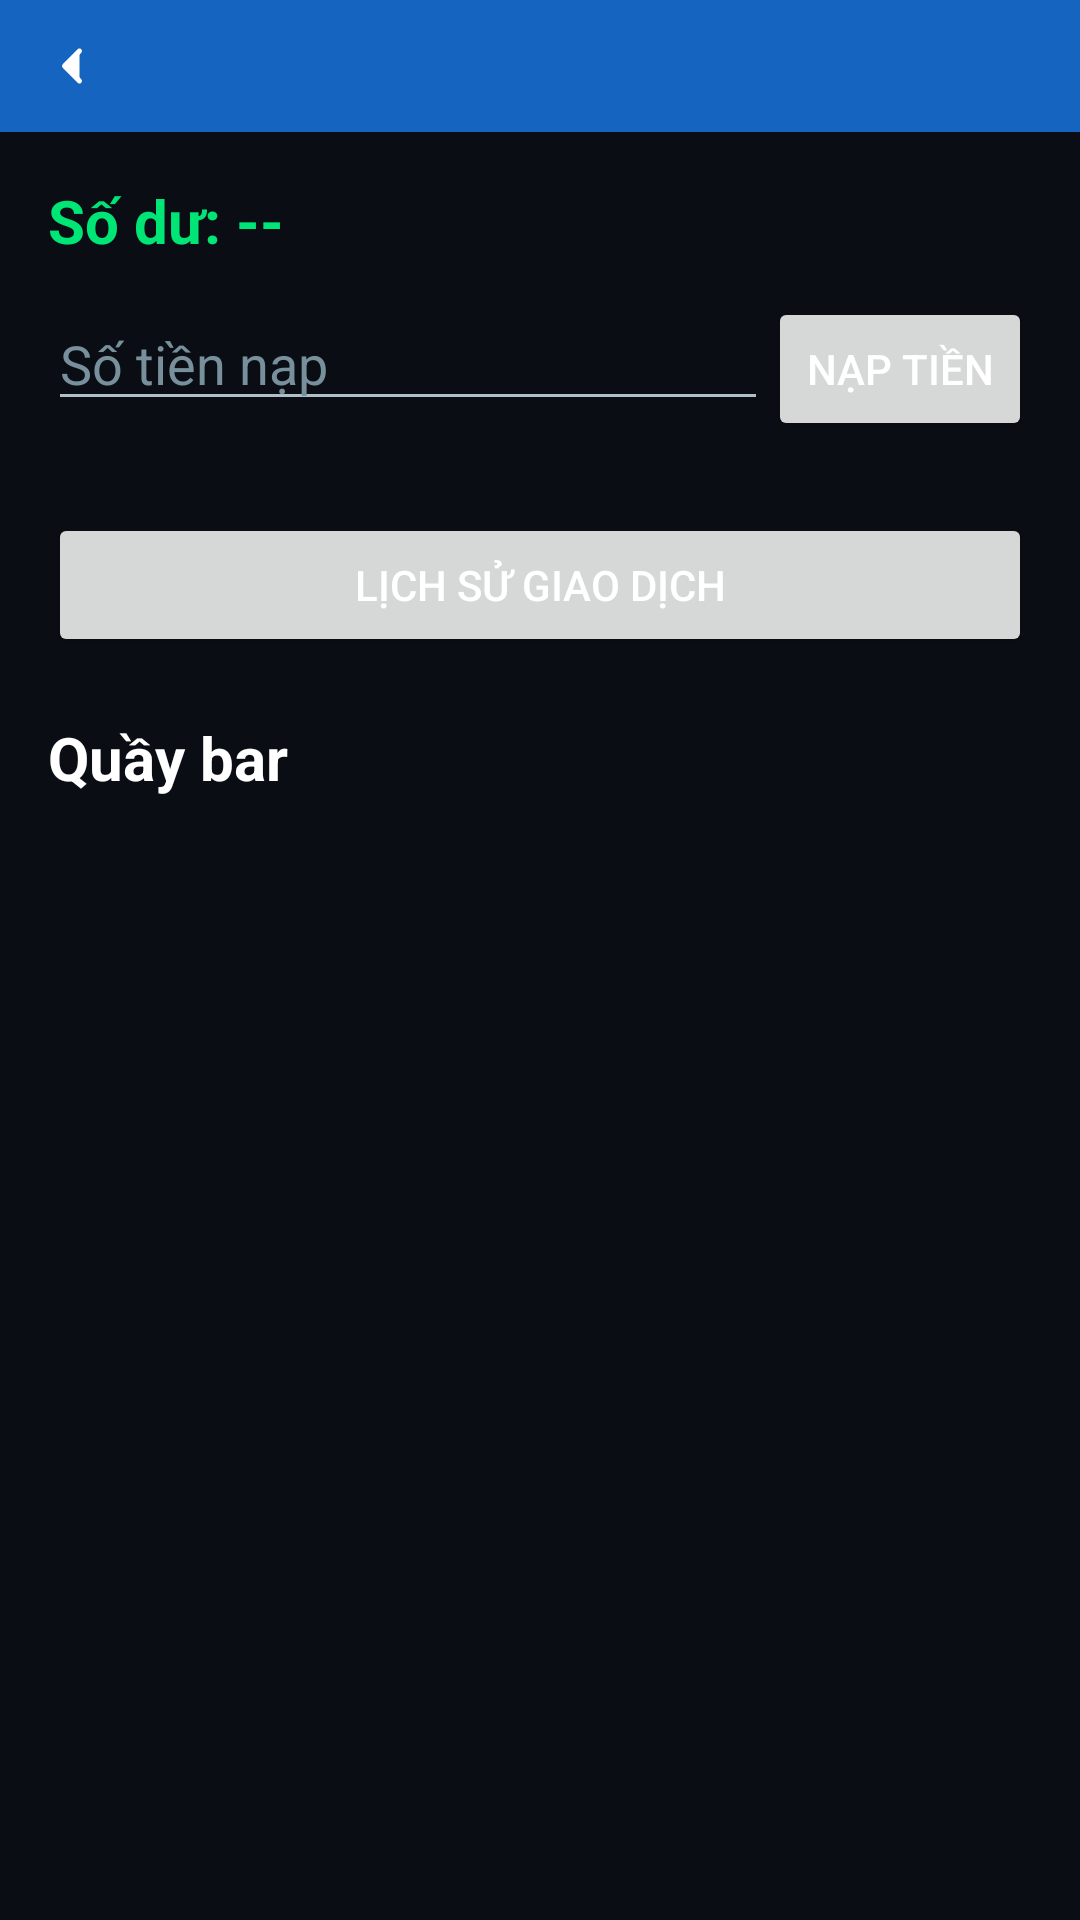

Named icons in this screenshot (1080x1920) and their bounding boxes, (x1, y1, x2, y2):
Quay lại: (62, 48, 82, 84)
